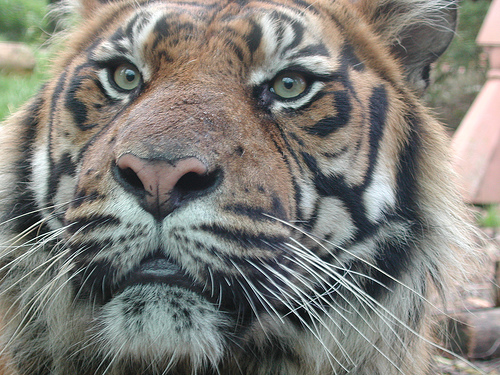Tigre: (24, 3, 459, 361)
